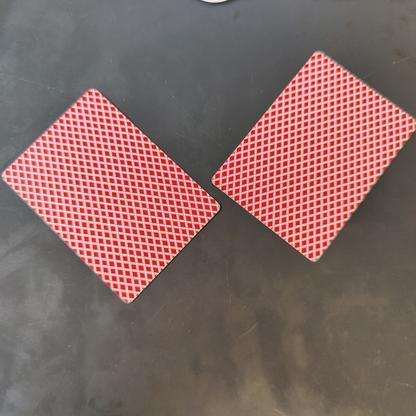card: (1, 76, 207, 310), (223, 42, 416, 267)
